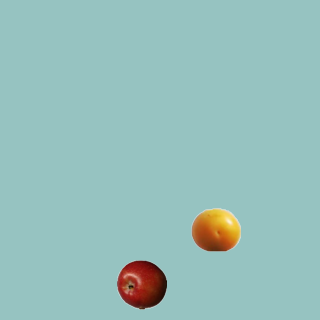Apple Braeburn: (116, 259, 166, 309)
Cherry Wax Yellow: (190, 204, 240, 254)
